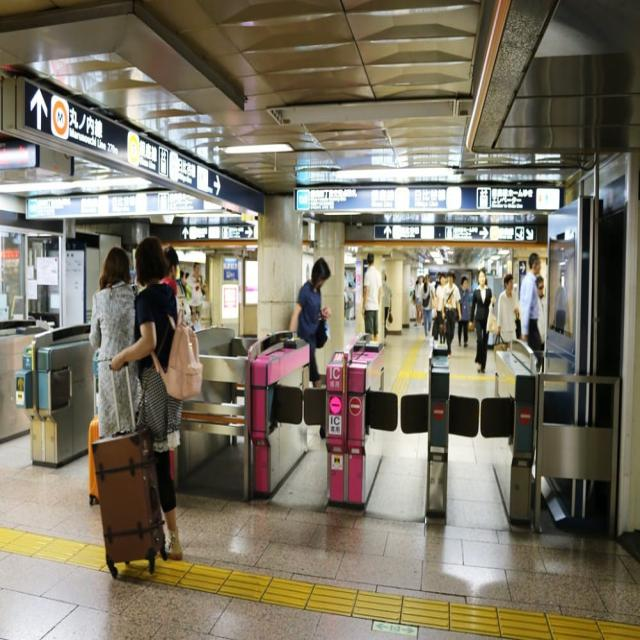body: (107, 235, 202, 565), (88, 245, 145, 440), (288, 255, 333, 390), (519, 252, 544, 374), (470, 268, 498, 375), (361, 252, 383, 342), (441, 270, 462, 358), (498, 274, 522, 344), (185, 260, 207, 331), (163, 243, 185, 312), (534, 275, 547, 376), (456, 274, 472, 350), (552, 270, 569, 336), (420, 272, 436, 340), (434, 272, 447, 346), (343, 266, 357, 319), (414, 274, 426, 330), (384, 272, 394, 338), (408, 277, 418, 307), (433, 267, 440, 289)
